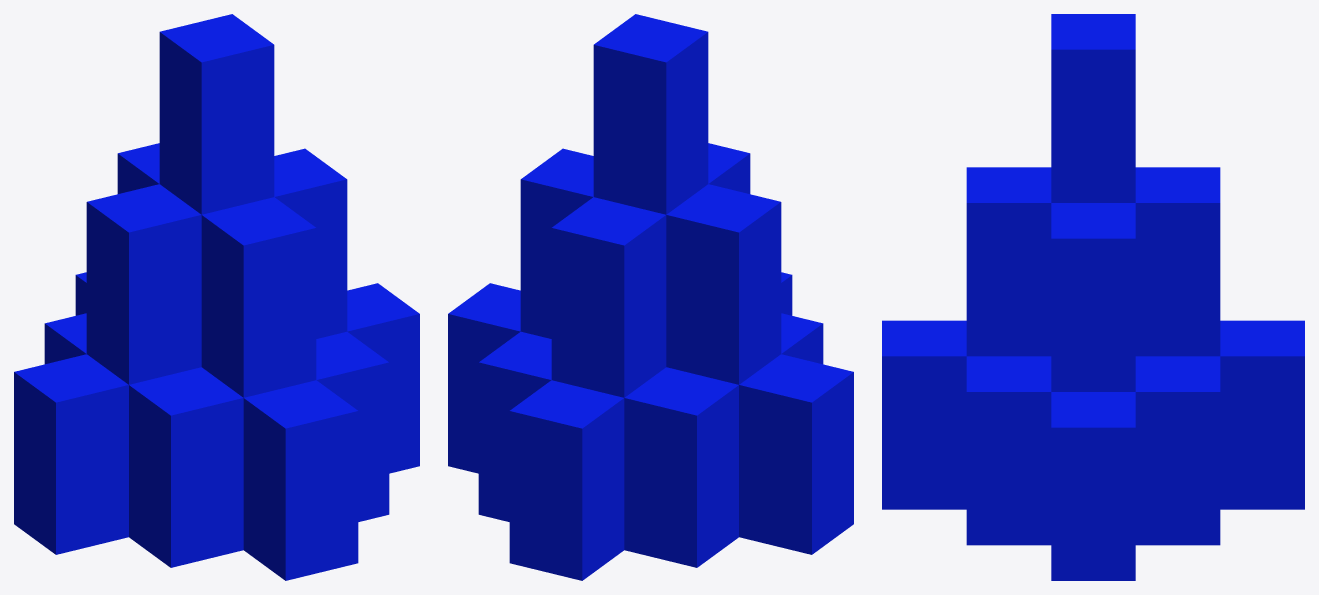
File: HandNeedleLeft.obj
3 renders of one model, left to right at view 1: azimuth 30°, elevation 25°; view 2: azimuth 150°, elevation 25°; view 3: azimuth 270°, elevation 25°, orthographic.
Bounding box in the file's own units: 5 × 6 × 5.
Materials: 1 (1 with a texture image).
